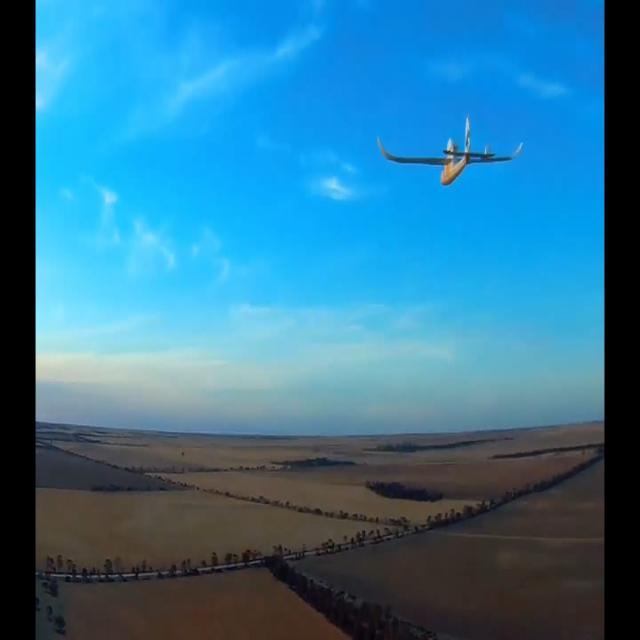iha: (377, 143, 524, 158)
